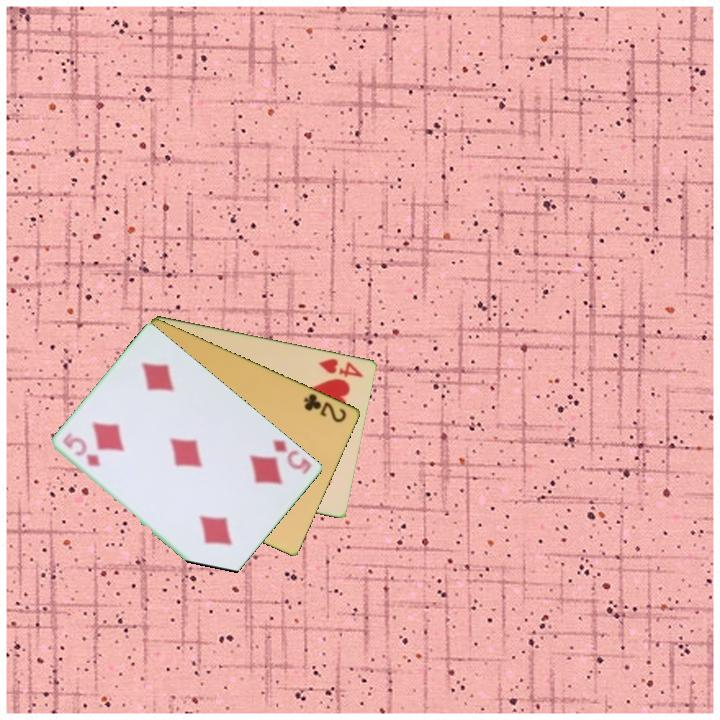2c: (300, 390, 350, 425)
4h: (315, 355, 367, 380)
5d: (270, 436, 315, 477), (59, 430, 104, 470)
